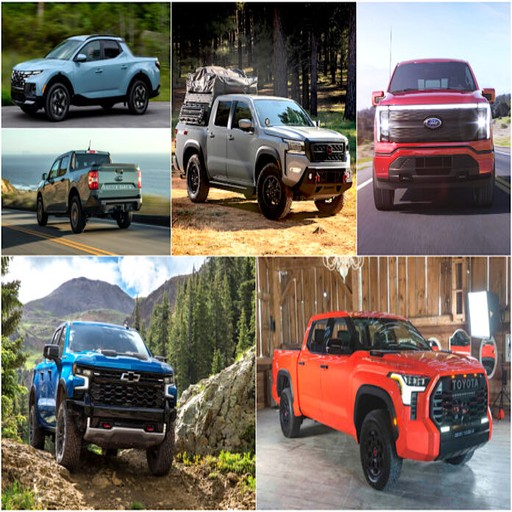truck: (267, 305, 501, 494), (175, 67, 355, 224), (27, 316, 180, 479), (370, 54, 500, 214), (11, 32, 163, 120), (33, 145, 145, 240)
